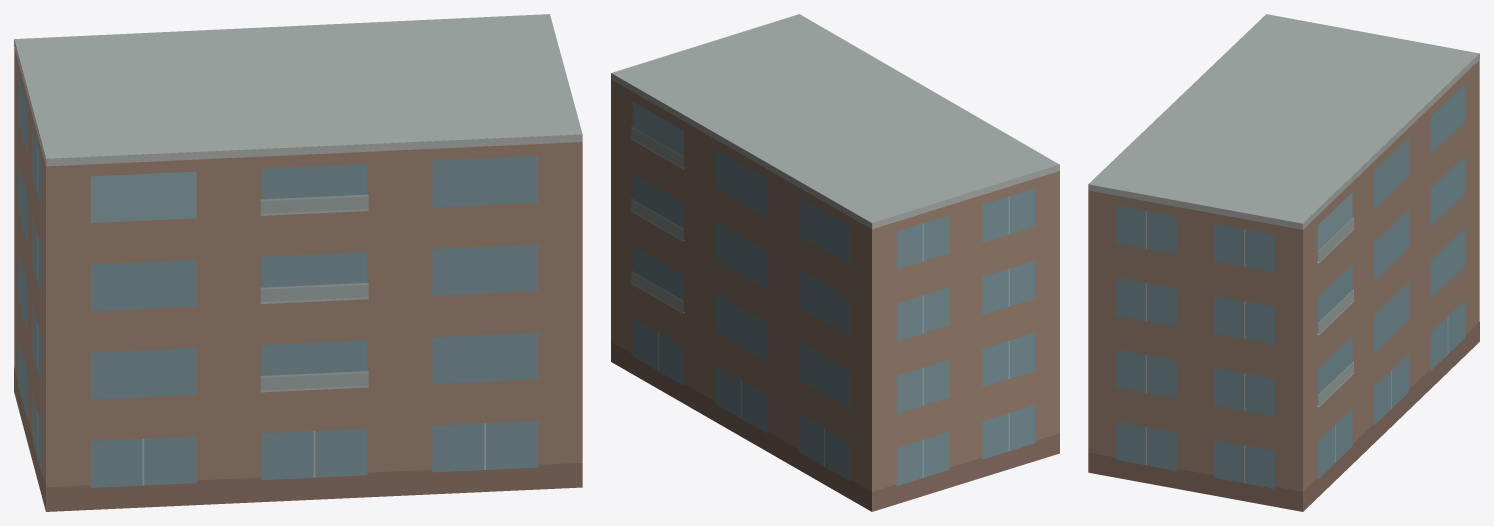
The model's file is survey-upis-32538202.glb.
The picture shows the model from 3 angles, left to right: view 1: azimuth 30°, elevation 25°; view 2: azimuth 150°, elevation 25°; view 3: azimuth 270°, elevation 25°; orthographic projection. The views are drawn at different scales.
Visible parts, largest first — view 1: survey-upis-32538202.tmp; view 2: survey-upis-32538202.tmp; view 3: survey-upis-32538202.tmp.
Part boxes in pixels (x1,y1,x2,y2): survey-upis-32538202.tmp: (14, 14, 582, 511); survey-upis-32538202.tmp: (611, 14, 1059, 511); survey-upis-32538202.tmp: (1088, 14, 1479, 511).
Bounding box in the file's own units: 17.64 × 11.3 × 13.92.
